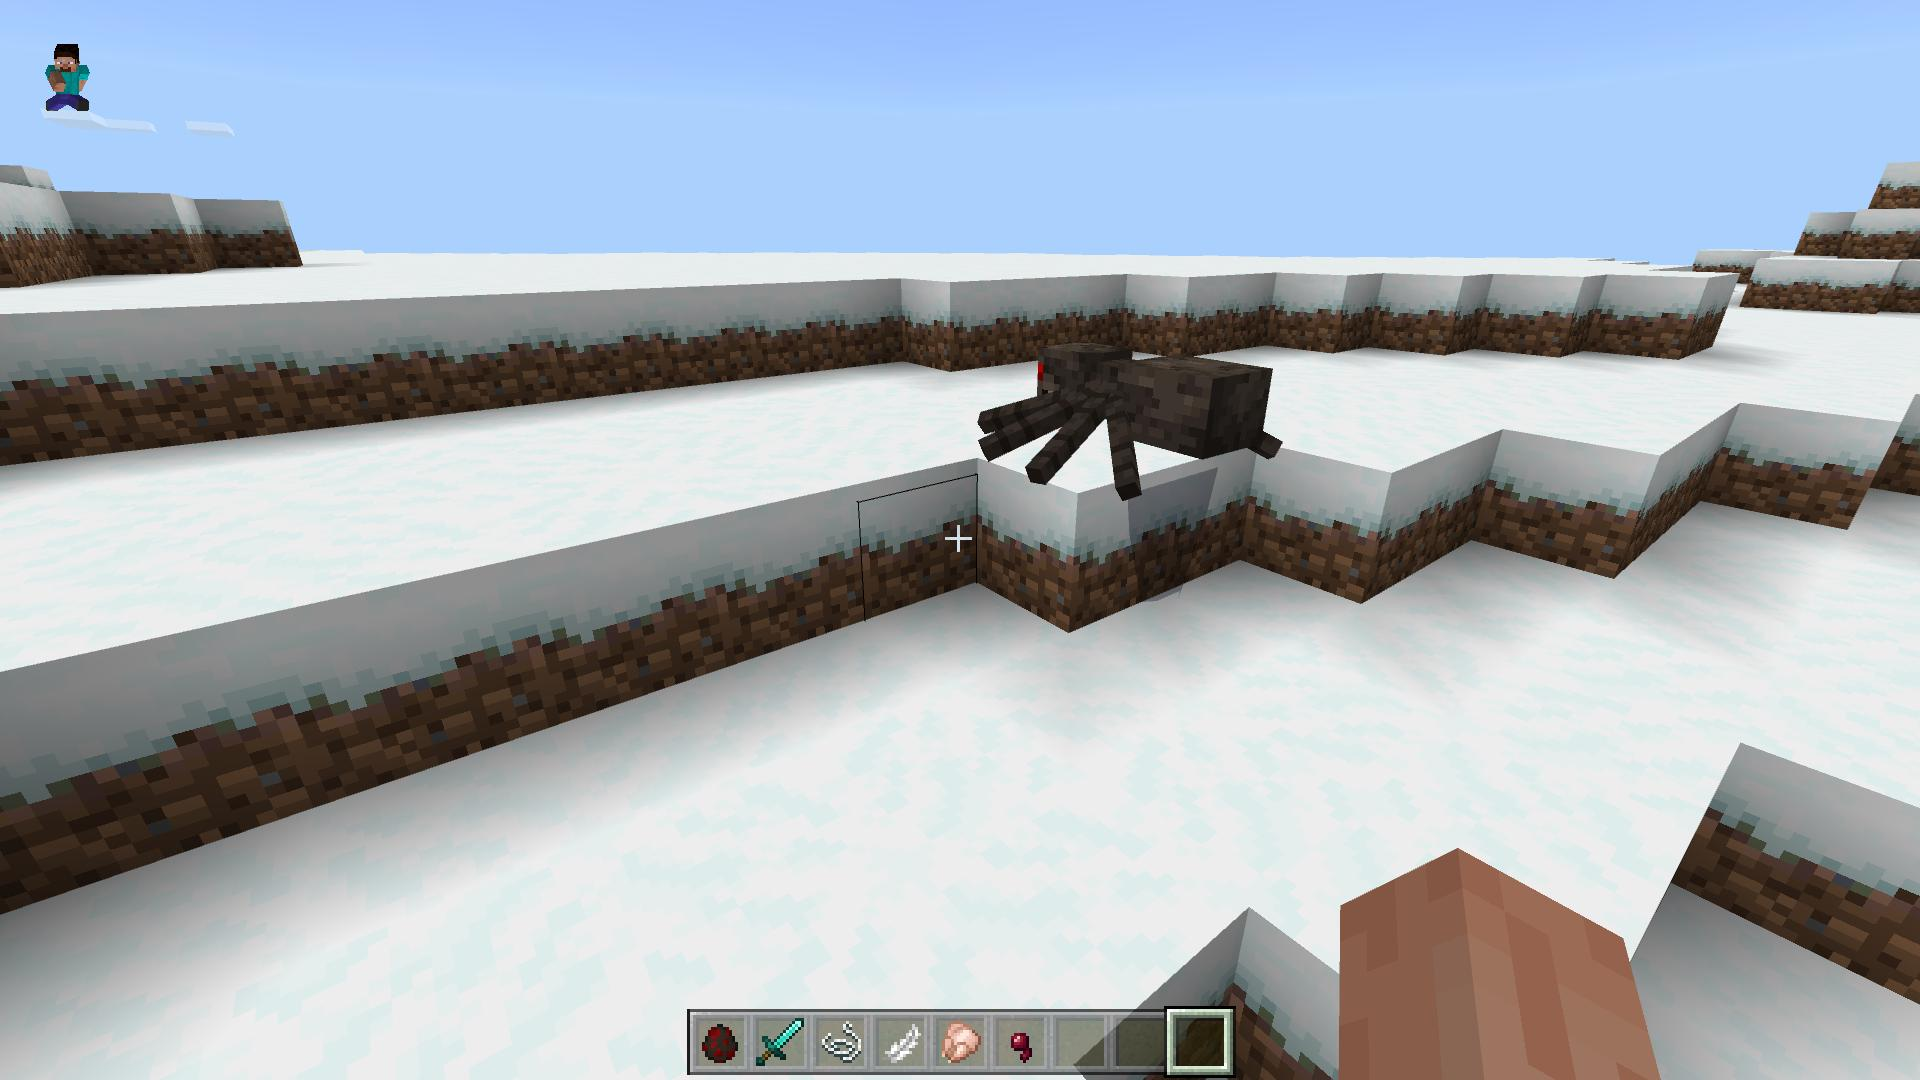spider: (981, 335, 1283, 500)
